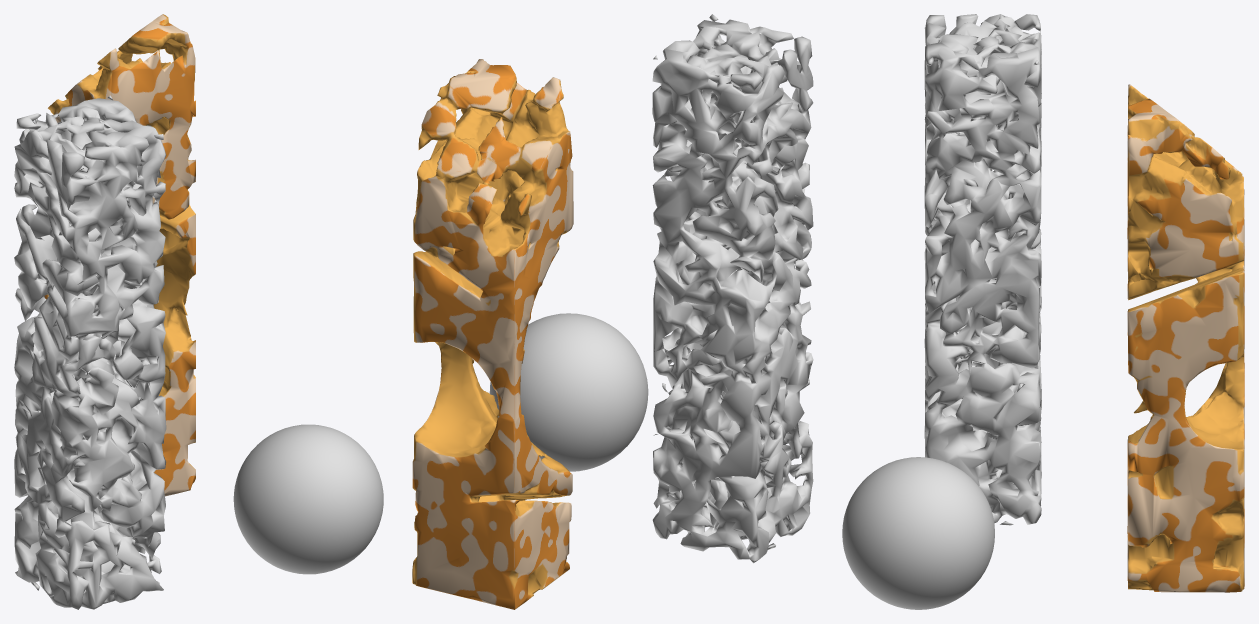
Rendered from SLS_201209_cables_szene.glb.
The picture shows the model from 3 angles, left to right: view 1: azimuth 30°, elevation 25°; view 2: azimuth 150°, elevation 25°; view 3: azimuth 270°, elevation 25°; orthographic projection. The views are drawn at different scales.
Visible parts, largest first — view 1: Connect, Connect_2, Sphere; view 2: Connect, Connect_2, Sphere; view 3: Connect, Connect_2, Sphere.
Part boxes in pixels (box(x1,y1,x2,y2)): Connect: box(14, 95, 166, 609); Connect_2: box(44, 14, 195, 496); Sphere: box(233, 424, 383, 574); Connect: box(652, 14, 813, 563); Connect_2: box(412, 59, 573, 609); Sphere: box(489, 313, 648, 471); Connect: box(924, 14, 1041, 525); Connect_2: box(1127, 84, 1244, 592); Sphere: box(842, 457, 994, 609).
Bounding box in the file's own units: 6.08 × 8.95 × 6.89.
1 material, 1 textured.
